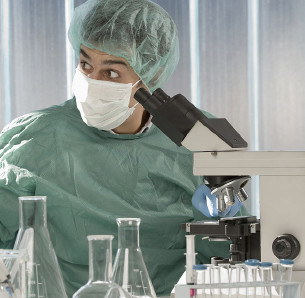face_mask: (73, 32, 139, 124)
